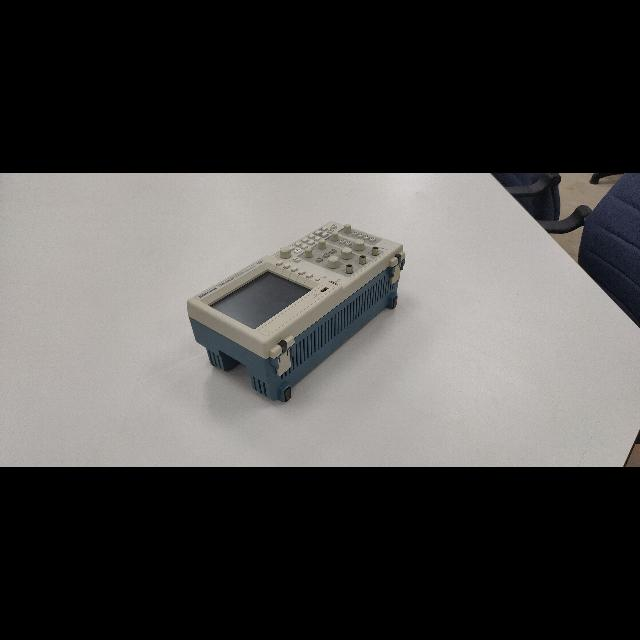Digital-Oscilloscope: (187, 221, 405, 403)
